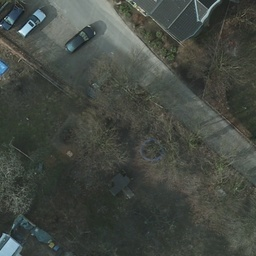car: (64, 25, 96, 52), (17, 9, 45, 38), (2, 4, 20, 31)
